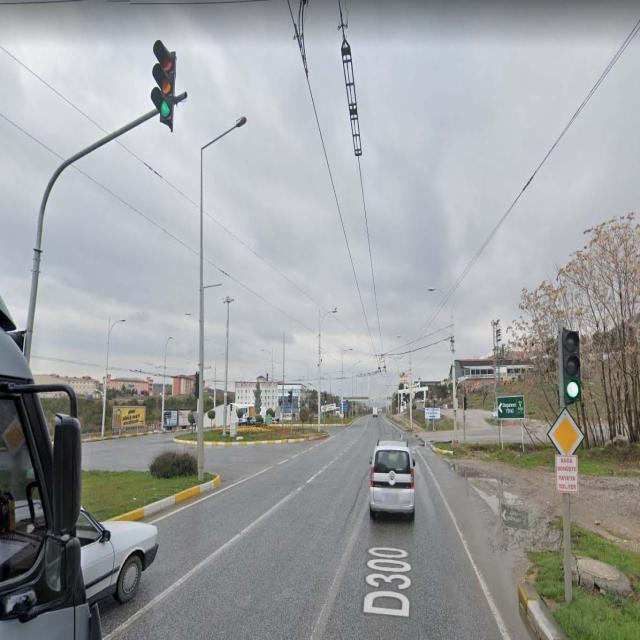yesil: (156, 42, 174, 123), (562, 328, 581, 401)
